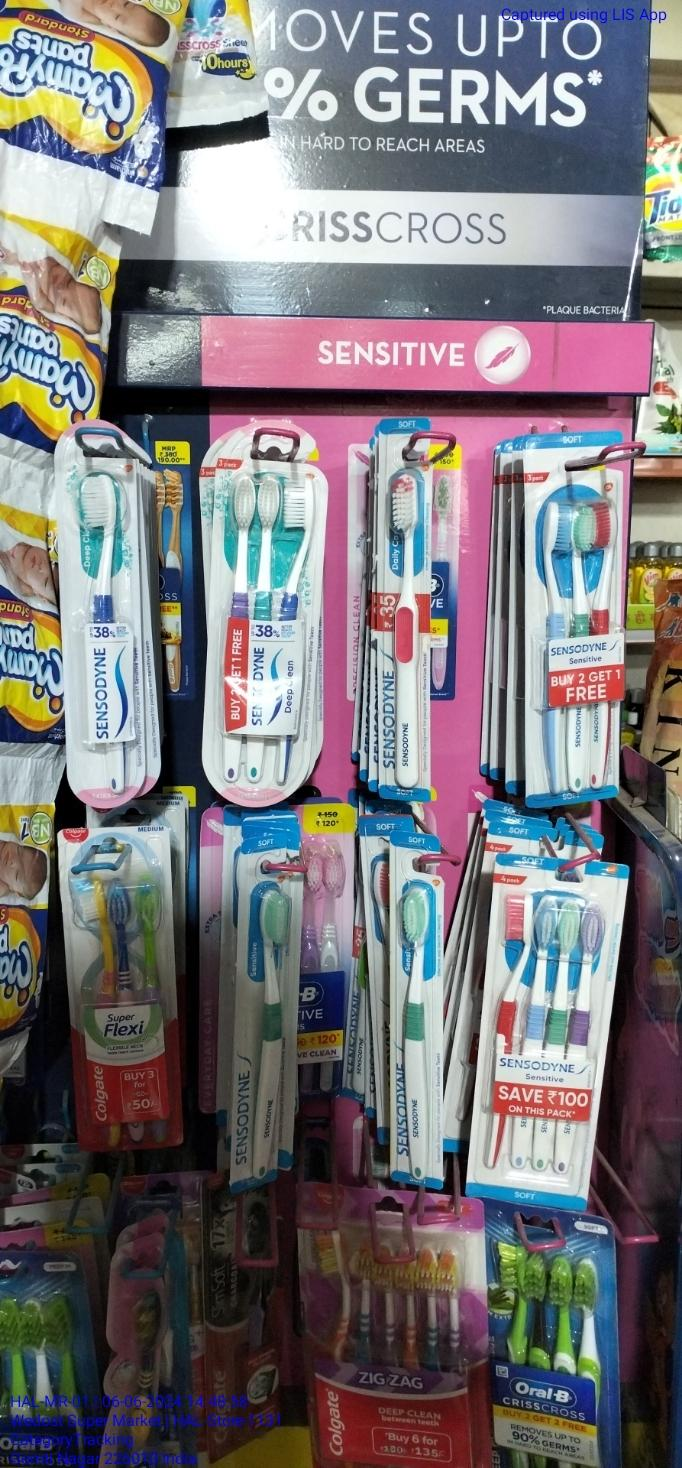14: (466, 851, 602, 1211)
5: (199, 418, 321, 807)
soap: (197, 1185, 284, 1460)
